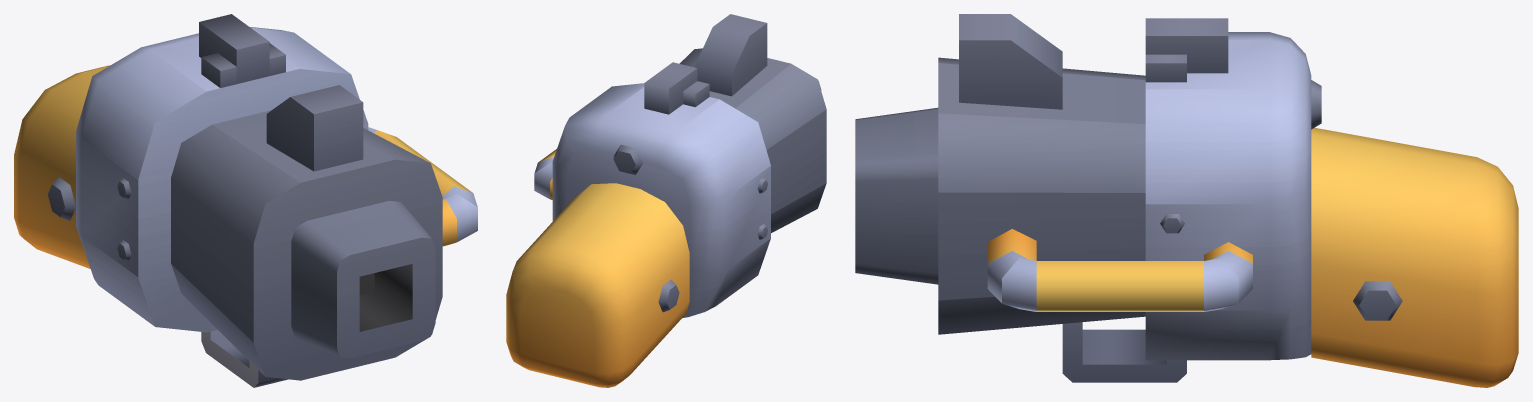
File: blaster.glb
3 renders of one model, left to right at view 1: azimuth 30°, elevation 25°; view 2: azimuth 150°, elevation 25°; view 3: azimuth 270°, elevation 25°, orthographic. The views are drawn at different scales.
Visible parts, largest first — view 1: blaster; view 2: blaster; view 3: blaster.
Boxes of the visible parts, x1,y1,x2,y2 form: blaster: (14,14,477,387); blaster: (506,14,826,387); blaster: (855,14,1518,387).
Size of the model in its own units: 0.8802 by 0.8999 by 1.6.
Materials: 1 (1 with a texture image).
